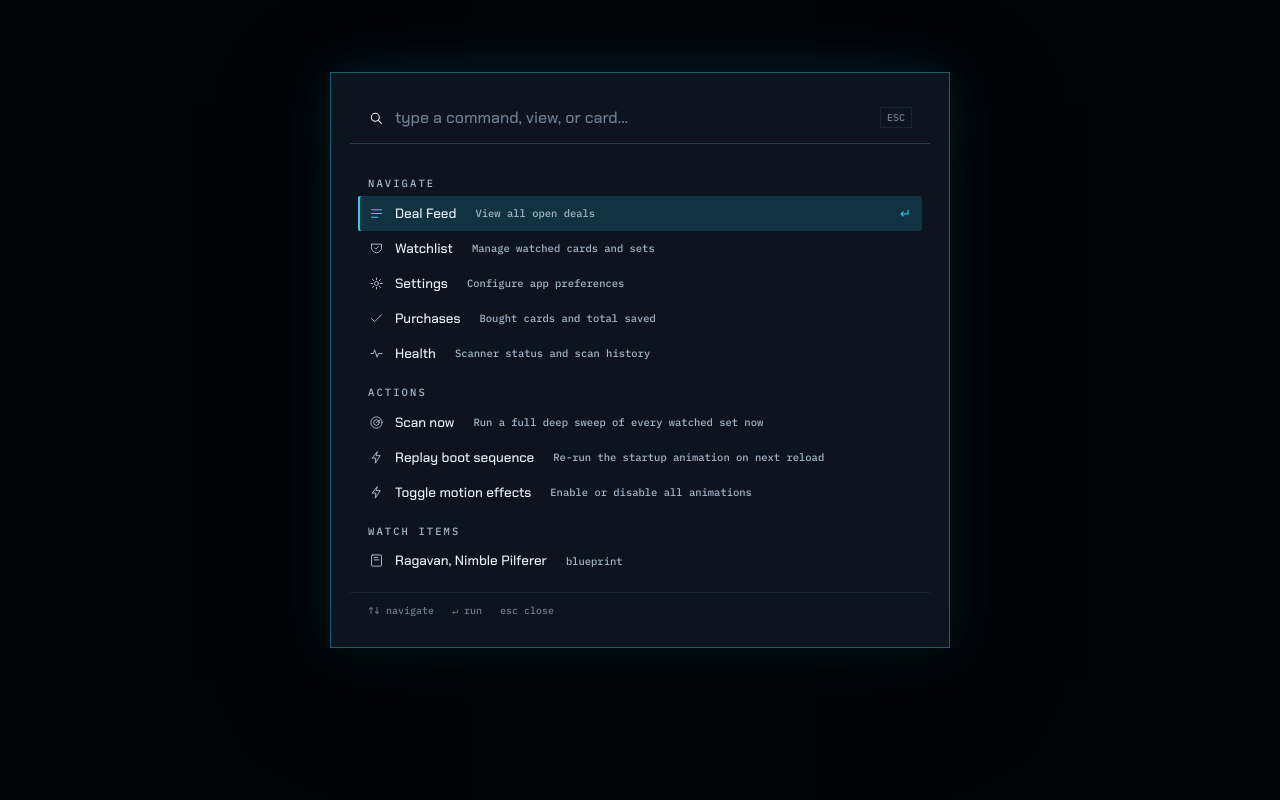
Scenario: CommandPalette › typing a query filters the list: matching command shows, non-matching hides
Expected: the text "Settings" is shown, [395,275,448,292]
# Type "health" — should keep "Health" visible and hide "Settings"
Type "health" into the field named "Search commands" at (632, 118), box [395,107,869,128]
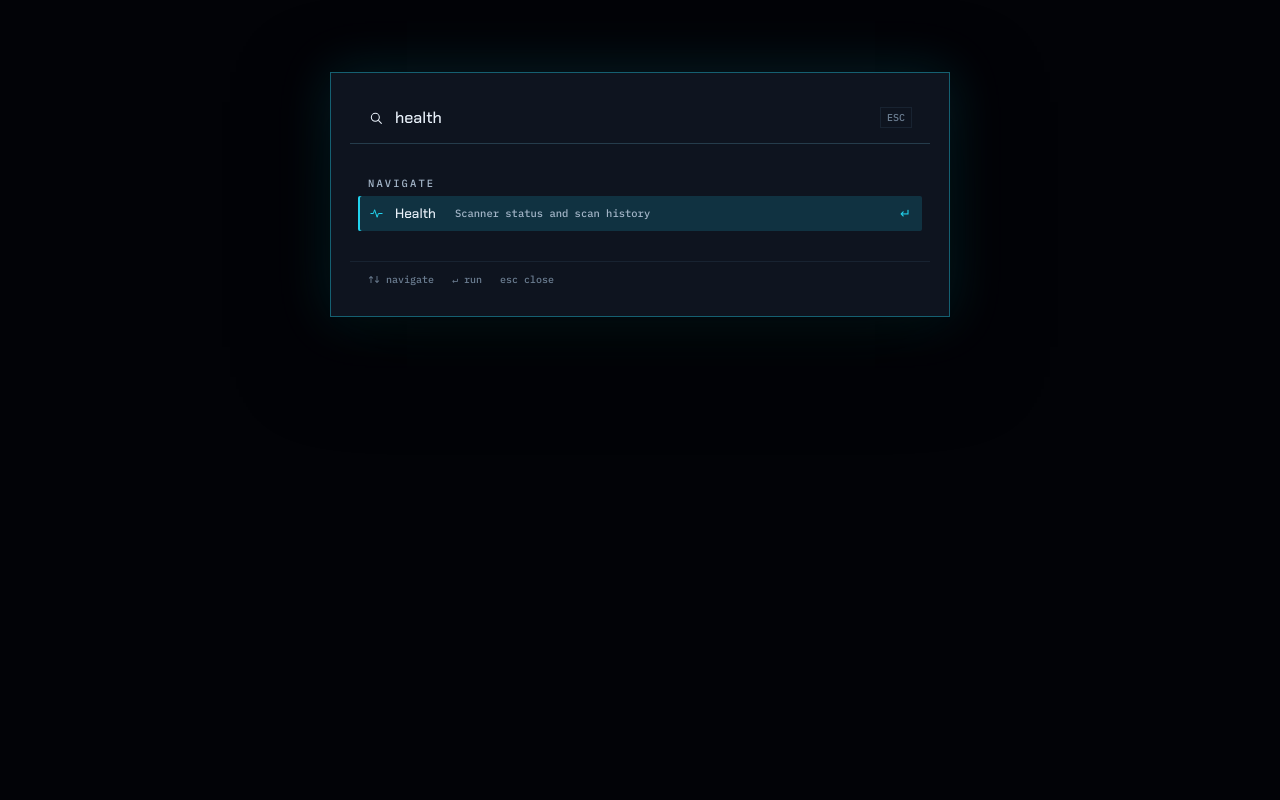
Expected: the text "Health" is shown, [395,205,436,222]
Expected: the option "Settings" is gone
